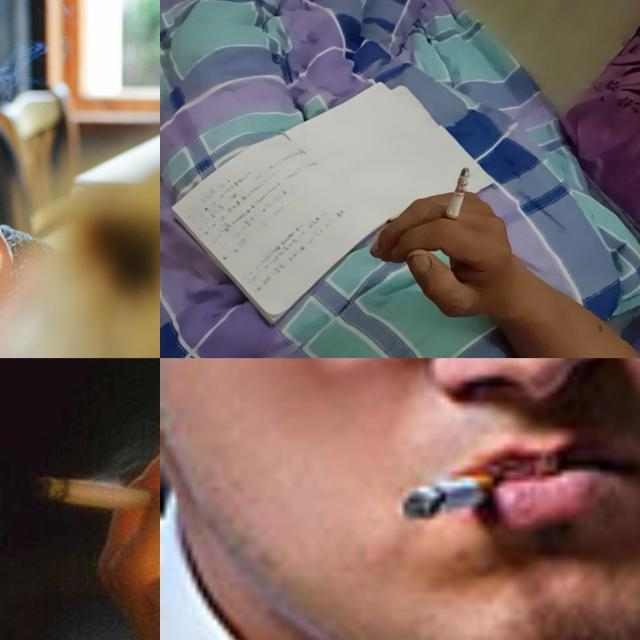smoking: (42, 472, 160, 525), (402, 474, 496, 520), (441, 167, 472, 230)
